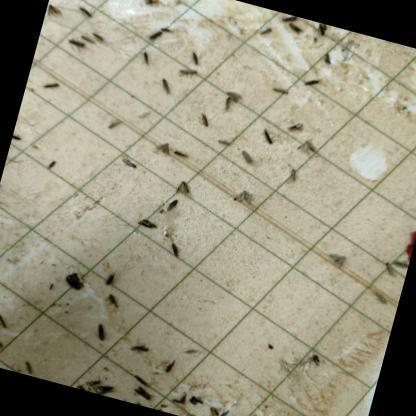prays_oleae: (140, 124, 178, 165), (186, 104, 219, 143), (40, 151, 70, 191), (273, 12, 307, 44), (216, 82, 246, 117), (142, 21, 174, 52), (113, 152, 146, 182), (294, 66, 324, 95), (90, 316, 118, 346), (378, 254, 402, 288), (247, 118, 276, 142), (172, 62, 202, 85), (163, 237, 185, 268), (169, 166, 192, 194), (326, 247, 351, 272), (154, 70, 174, 100), (127, 338, 157, 358), (236, 148, 262, 171), (64, 36, 92, 56), (386, 252, 410, 275), (254, 22, 276, 46), (44, 0, 66, 23), (154, 134, 173, 160), (134, 216, 157, 236), (235, 186, 258, 204), (106, 112, 124, 135), (136, 45, 152, 68), (311, 22, 327, 45), (297, 138, 319, 154), (141, 0, 166, 12), (102, 268, 117, 288), (92, 30, 110, 46), (10, 126, 23, 148), (284, 166, 302, 180), (161, 200, 182, 212), (0, 308, 9, 333), (288, 118, 302, 134)
